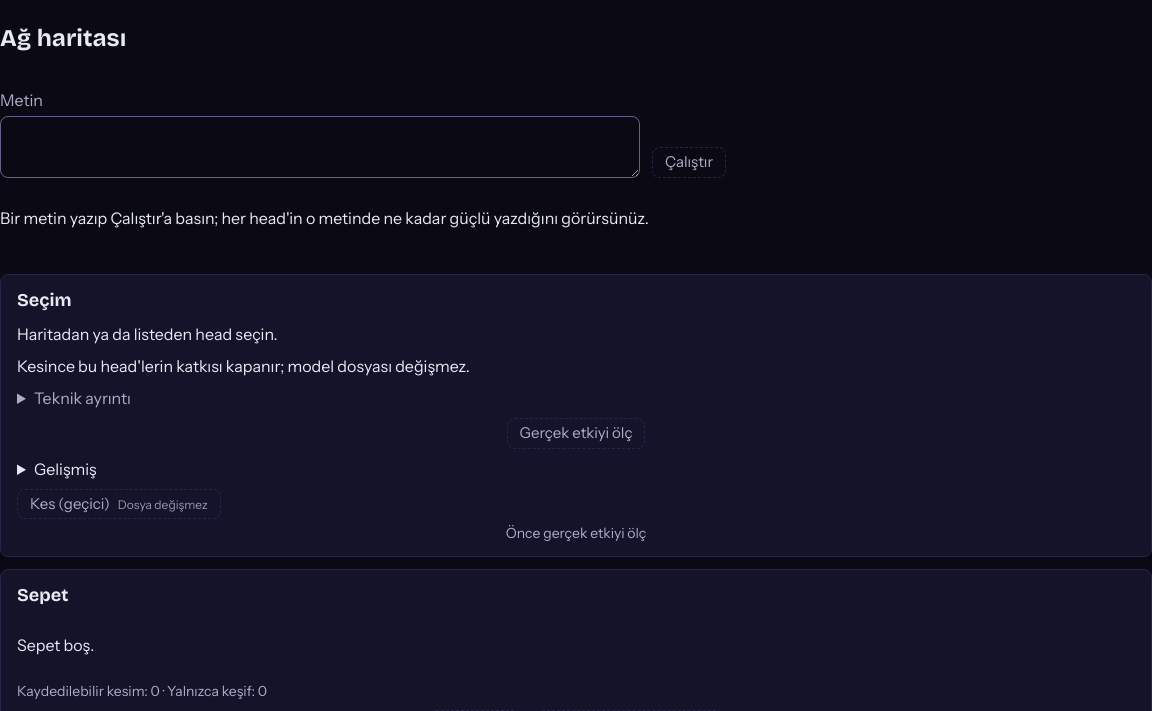
Test: run sends the prompt once without a token index, then shows tokens, legend and the estimated badge
Type "merhaba dün" into the text box labelled "Metin" at [320, 147], box left=0, top=116, right=640, bottom=178
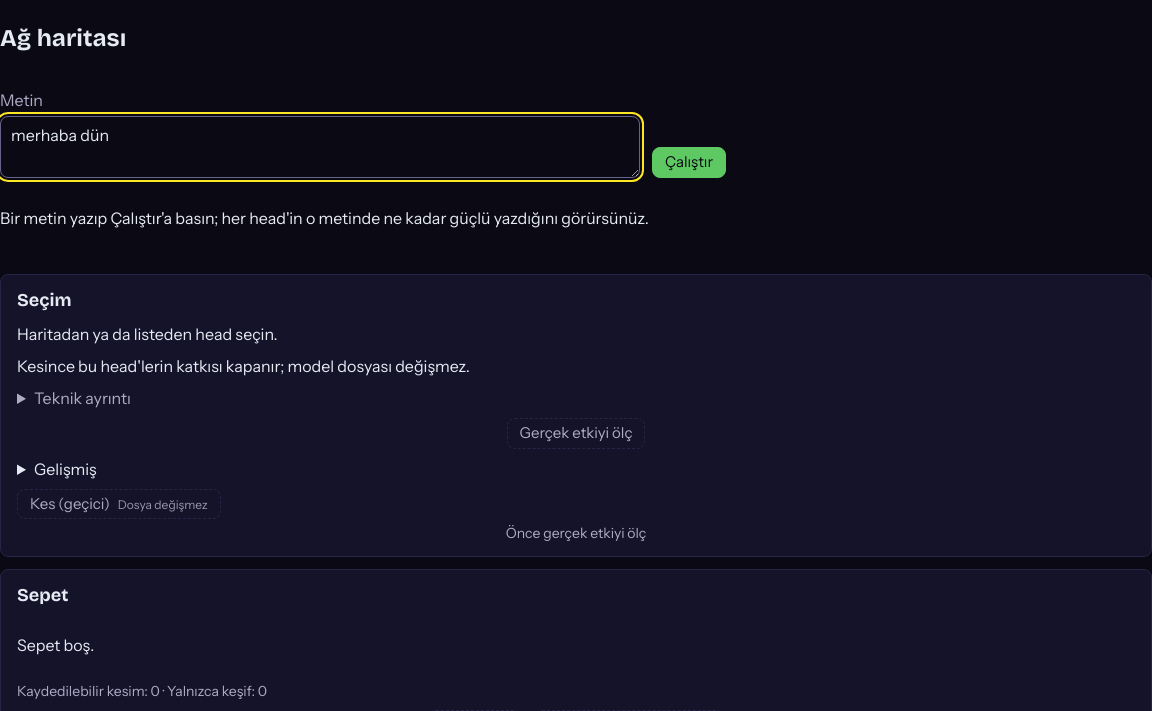
Click the button "Çalıştır" at [689, 162], box left=652, top=147, right=726, bottom=178
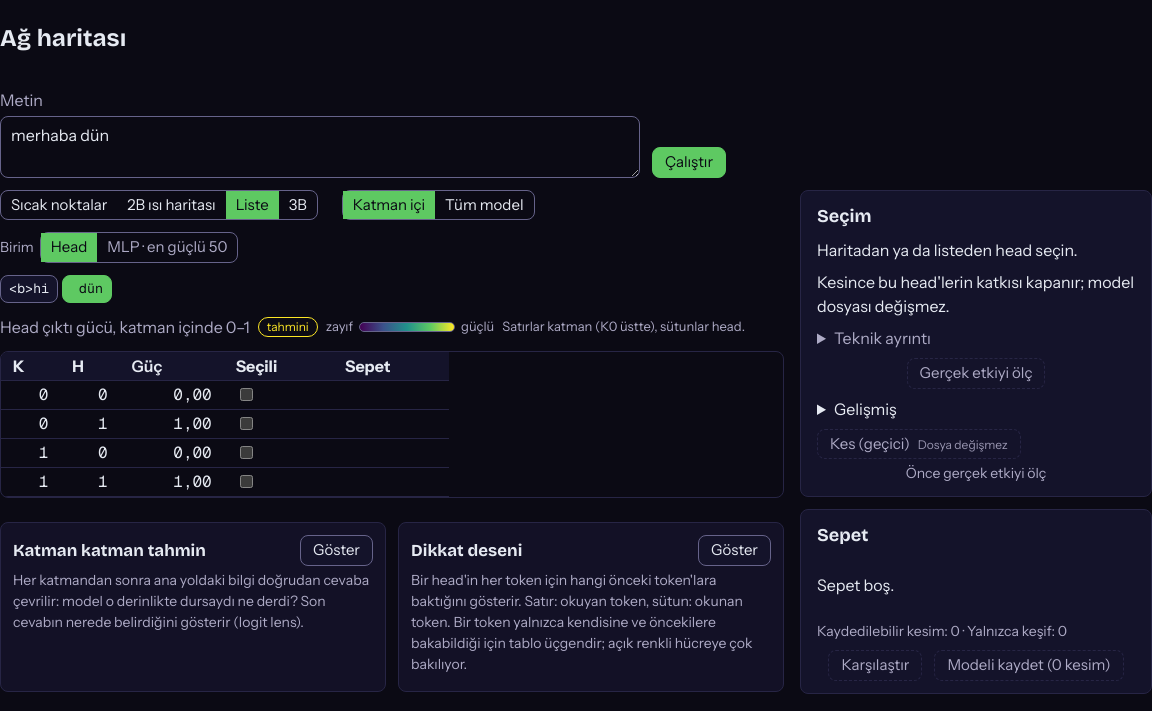
Expected: the list named "Belirteçler" is shown, left=0, top=275, right=112, bottom=303
Expected: the text "Head çıktı gücü, katman içinde 0–1" is shown, left=0, top=315, right=250, bottom=339
Expected: the text "tahmini" is shown, left=258, top=317, right=318, bottom=337
